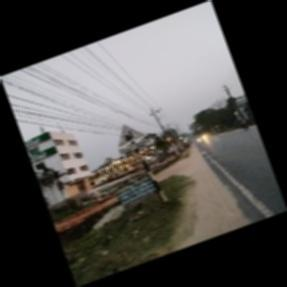Mosque in front: (115, 120, 152, 158)
